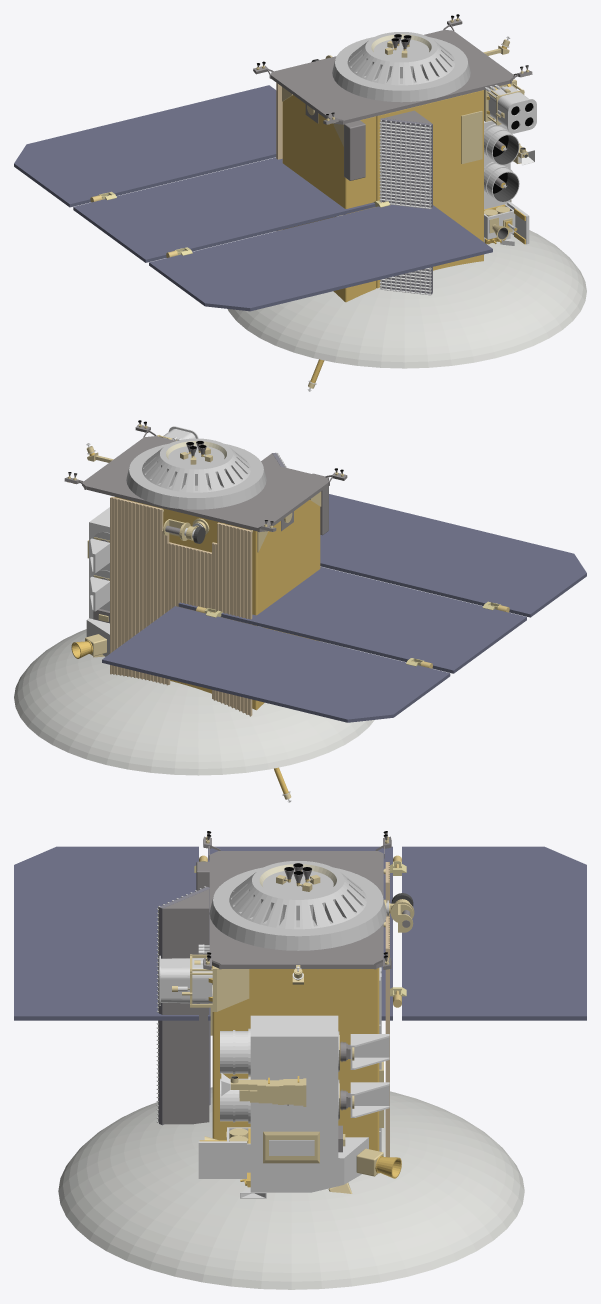
File: lro.gltf
The picture shows the model from 3 angles, top to bottom: view 1: azimuth 30°, elevation 25°; view 2: azimuth 150°, elevation 25°; view 3: azimuth 270°, elevation 25°; orthographic projection. The views are drawn at different scales.
Parts seen in each view (by area): view 1: Layer_4, Layer_0, Layer_3; view 2: Layer_4, Layer_0, Layer_3; view 3: Layer_0, Layer_4, Layer_3.
Part boxes in pixels (left/top/right/bottom): Layer_4: left=14, top=85, right=492, bottom=311; Layer_0: left=253, top=14, right=536, bottom=391; Layer_3: left=227, top=230, right=586, bottom=368; Layer_4: left=102, top=494, right=586, bottom=722; Layer_0: left=64, top=420, right=347, bottom=802; Layer_3: left=14, top=629, right=374, bottom=775; Layer_0: left=156, top=831, right=414, bottom=1198; Layer_4: left=14, top=846, right=586, bottom=1020; Layer_3: left=58, top=1087, right=524, bottom=1289.
Bounding box in the file's own units: 1.42 × 1 × 1.23.
